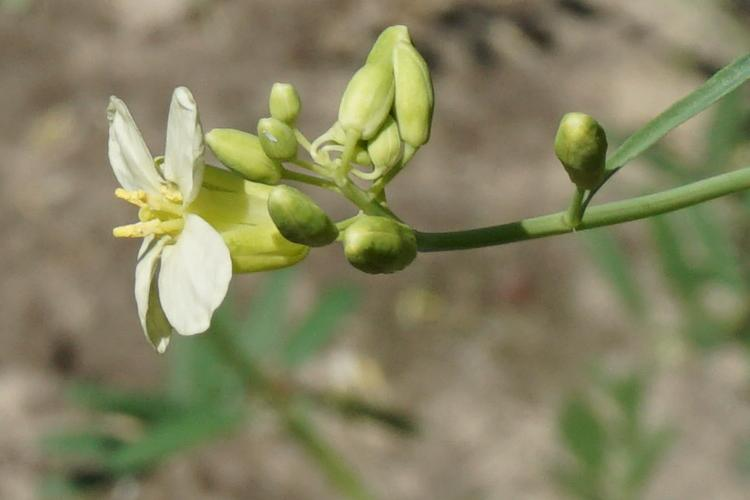bud: (328, 21, 439, 179), (548, 111, 622, 197), (199, 122, 287, 184), (345, 214, 422, 277), (259, 188, 330, 253), (256, 113, 311, 168), (260, 85, 312, 131)
white: (73, 100, 229, 336)
